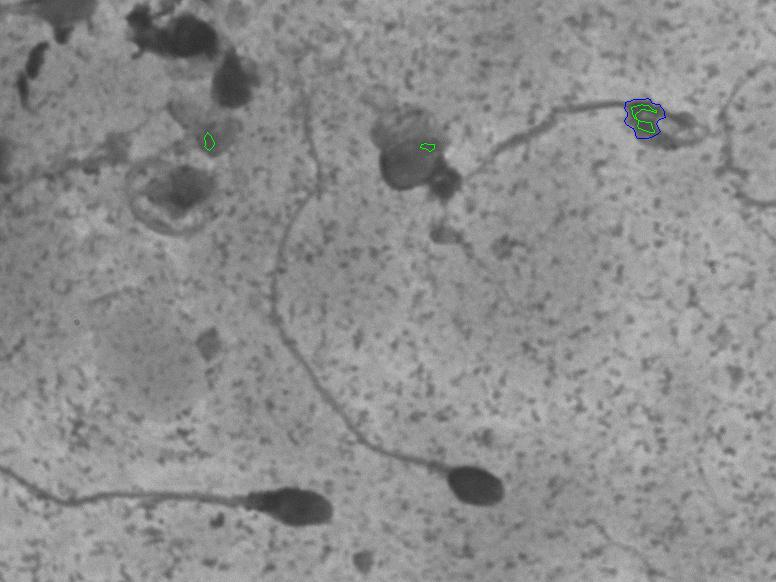Abnormal: (30, 465, 338, 541)
Normal: (252, 76, 517, 515)
